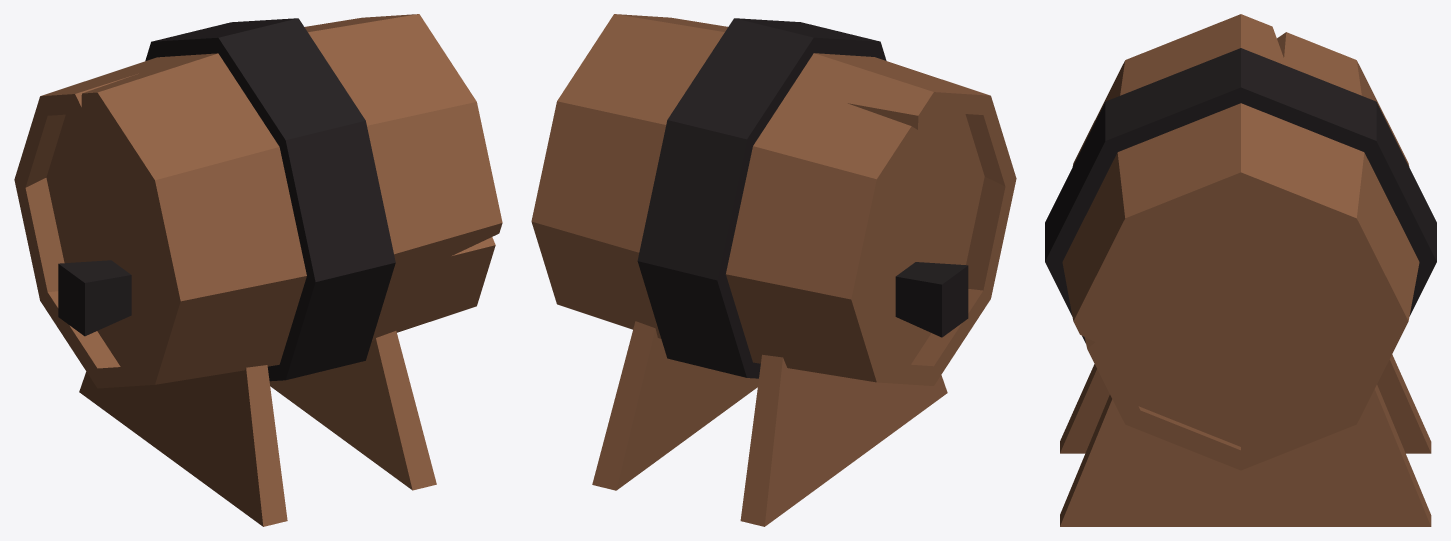
Rendered from keg.fbx.
3 views of the same model, side by side, from view 1: azimuth 30°, elevation 25°; view 2: azimuth 150°, elevation 25°; view 3: azimuth 270°, elevation 25° (orthographic).
Parts seen in each view (by area): view 1: keg; view 2: keg; view 3: keg.
Boxes of the visible parts, x1=… form: keg: x1=14, y1=14, x2=502, y2=526; keg: x1=531, y1=14, x2=1016, y2=526; keg: x1=1045, y1=14, x2=1436, y2=526.
Bounding box in the file's own units: 54.77 × 62.46 × 53.37.
1 material, 1 textured.
